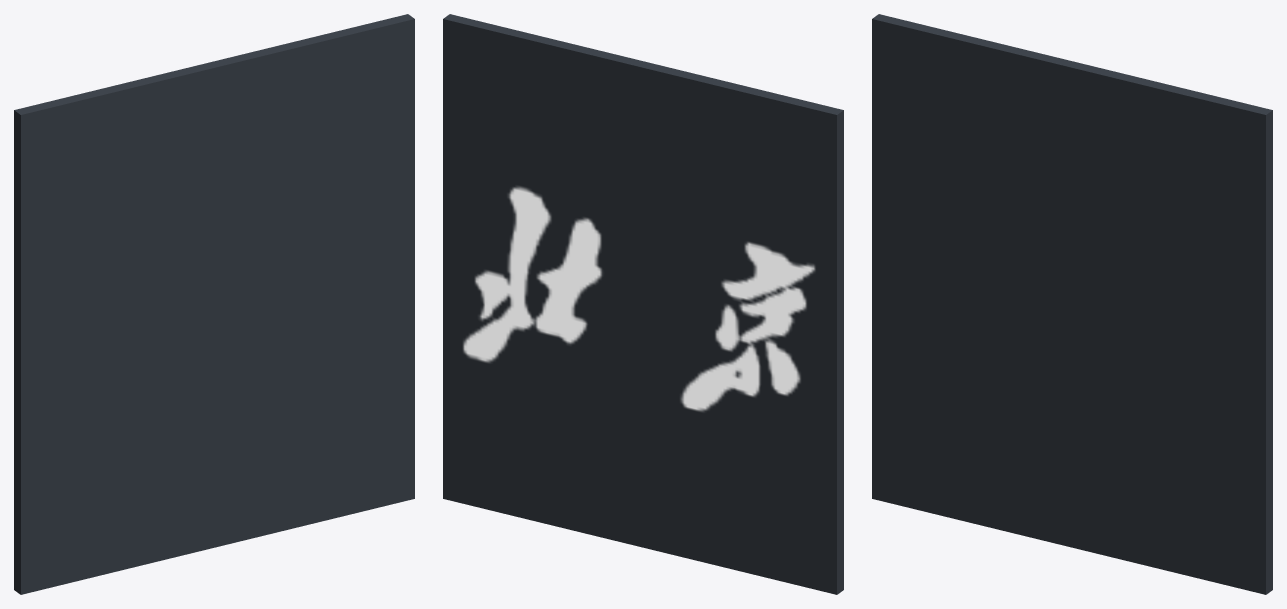
File: train-mark-beijing.glb
The picture shows the model from 3 angles, left to right: view 1: azimuth 30°, elevation 25°; view 2: azimuth 150°, elevation 25°; view 3: azimuth 330°, elevation 25°; orthographic projection.
Visible parts, largest first — view 1: TrainMarkBeijing_backing; view 2: TrainMarkBeijing_backing, TrainMarkBeijing_mark; view 3: TrainMarkBeijing_backing.
Part boxes in pixels (x1=…): TrainMarkBeijing_backing: x1=14, y1=14, x2=414, y2=594; TrainMarkBeijing_backing: x1=443, y1=14, x2=843, y2=594; TrainMarkBeijing_mark: x1=462, y1=186, x2=815, y2=411; TrainMarkBeijing_backing: x1=872, y1=14, x2=1272, y2=594.
Bounding box in the file's own units: 1.68 × 1.96 × 0.056.
Materials: 2 (1 with a texture image).
